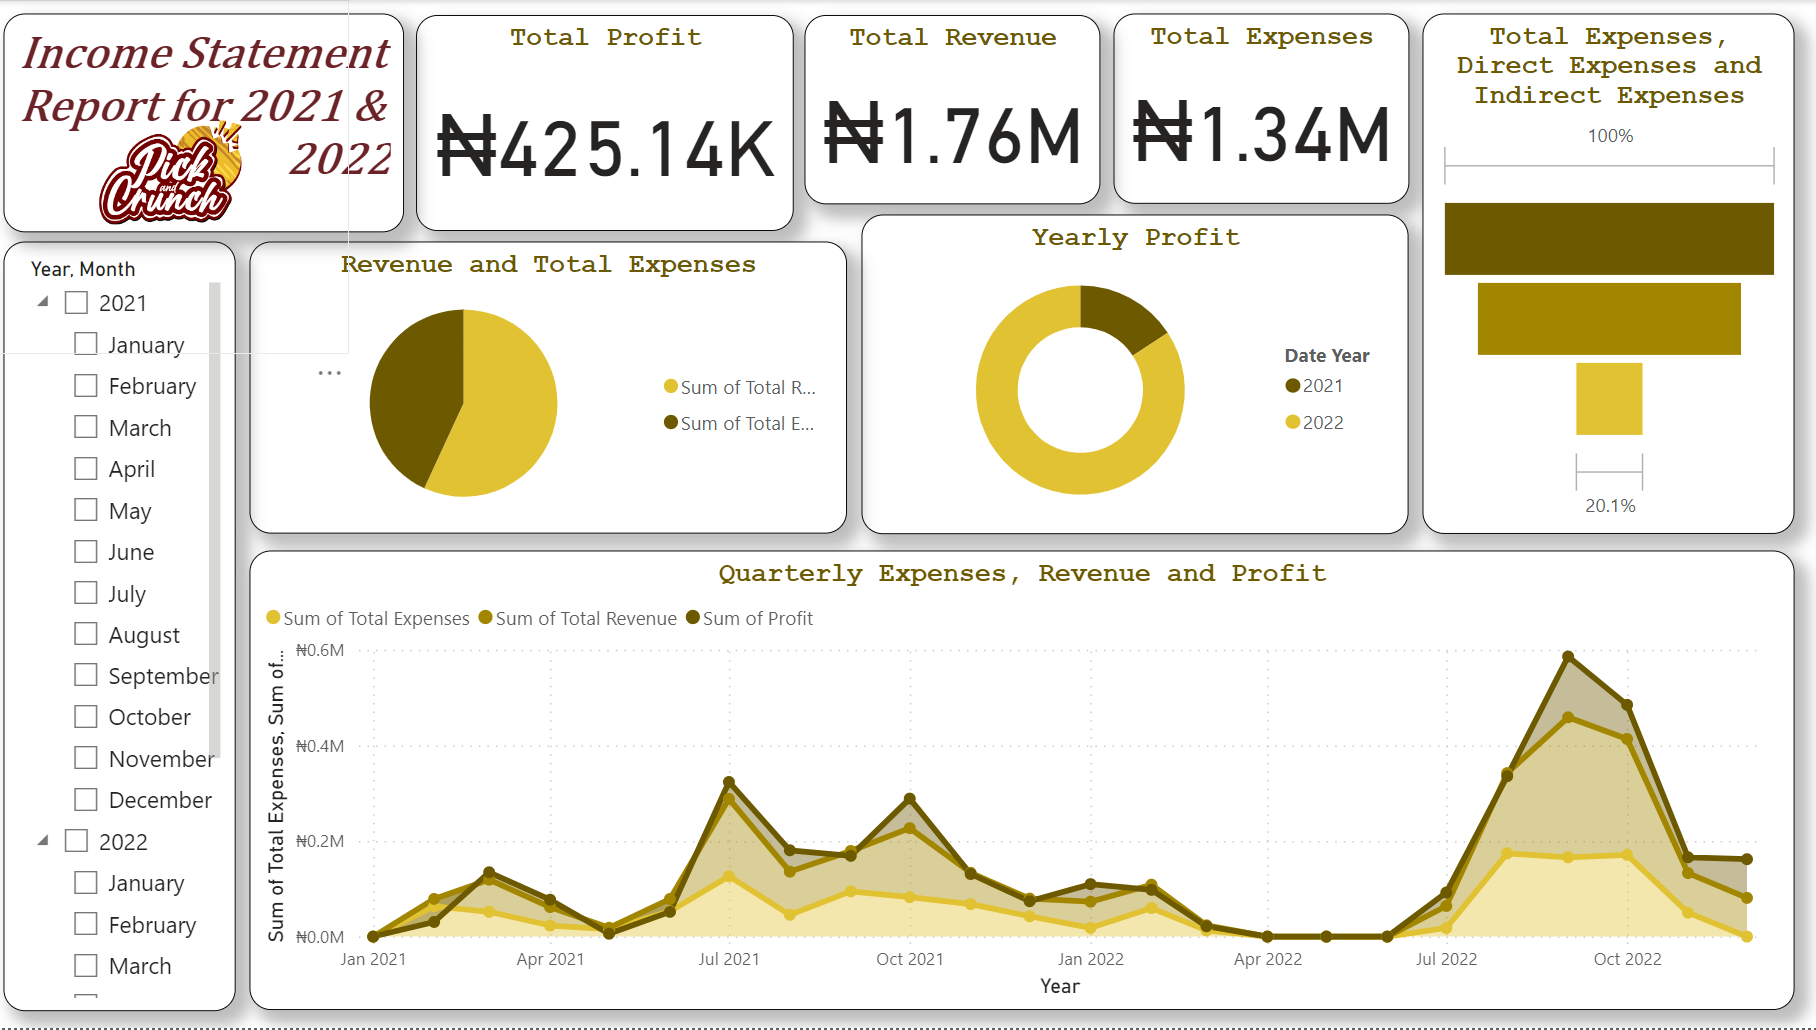

The page's visual inventory and layout, read from the dashboard file:
{"tool":"powerbi","page":{"name":"Page 1","canvas":[1280,720],"ordinal":0},"visuals":[{"type":"card","title":"Total Profit","fields":{"Values":["Sum(Table.Profit)"]},"box":[296.4,10.5,264.9,151.4],"z":0},{"type":"card","title":"Total Expenses","fields":{"Values":["Sum(Table.Total Expenses)"]},"box":[785.2,9.5,207.1,133.5],"z":1000},{"type":"card","title":"Total Revenue","fields":{"Values":["Sum(Table.Total Revenue)"]},"box":[568.6,10.5,207.1,132.4],"z":2000},{"type":"donutChart","title":"Yearly Profit","fields":{"Category":["Table.Date.Variation.Date Hierarchy.Year"],"Y":["Sum(Table.Profit)"]},"box":[608.6,150.3,383.6,223.9],"z":3000},{"type":"pieChart","title":"Revenue and Total Expenses","fields":{"Y":["Sum(Table.Total Revenue)","Sum(Table.Total Expenses)"]},"box":[179.7,169.2,418.3,205],"z":4000},{"type":"funnel","title":"Total Expenses, Direct Expenses and Indirect Expenses","fields":{"Y":["Sum(Table.Total Expenses)","Sum(Table.Total Direct Expenses)","Sum(Table.Total Indirect Expenses)"]},"box":[1002.1,9.8,260.6,364.4],"z":5000},{"type":"slicer","fields":{"Values":["Table.Date.Variation.Date Hierarchy.Year","Table.Date.Variation.Date Hierarchy.Month"]},"box":[7.4,169.2,162.9,539.2],"z":6000},{"type":"stackedAreaChart","title":"Quarterly Expenses, Revenue and Profit ","fields":{"Category":["Table.Date.Variation.Date Hierarchy.Year","Table.Date.Variation.Date Hierarchy.Quarter","Table.Date.Variation.Date Hierarchy.Month"],"Y":["Sum(Table.Total Expenses)","Sum(Table.Total Revenue)","Sum(Table.Profit)"]},"box":[180.2,386,1082.4,322.3],"z":7000},{"type":"textbox","box":[7.4,9.5,280.6,153.5],"z":8000},{"type":"image","box":[0,0,249.1,248.1],"z":8501}]}

Visuals, with their boxes in screenshot pixels (x1, y1, x2, y2), scaled from the page's 1280x720 canvas onto the 1816x1030 screenshot:
"Total Profit" card: region(421, 15, 796, 232)
"Total Expenses" card: region(1114, 14, 1408, 205)
"Total Revenue" card: region(807, 15, 1101, 204)
"Yearly Profit" donutChart: region(863, 215, 1408, 535)
"Revenue and Total Expenses" pieChart: region(255, 242, 848, 535)
"Total Expenses, Direct Expenses and Indirect Expenses" funnel: region(1422, 14, 1791, 535)
slicer - Table.Date.Variation.Date Hierarchy.Year x Table.Date.Variation.Date Hierarchy.Month: region(10, 242, 242, 1013)
"Quarterly Expenses, Revenue and Profit " stackedAreaChart: region(256, 552, 1791, 1013)
textbox: region(10, 14, 409, 233)
image: region(0, 0, 353, 355)
